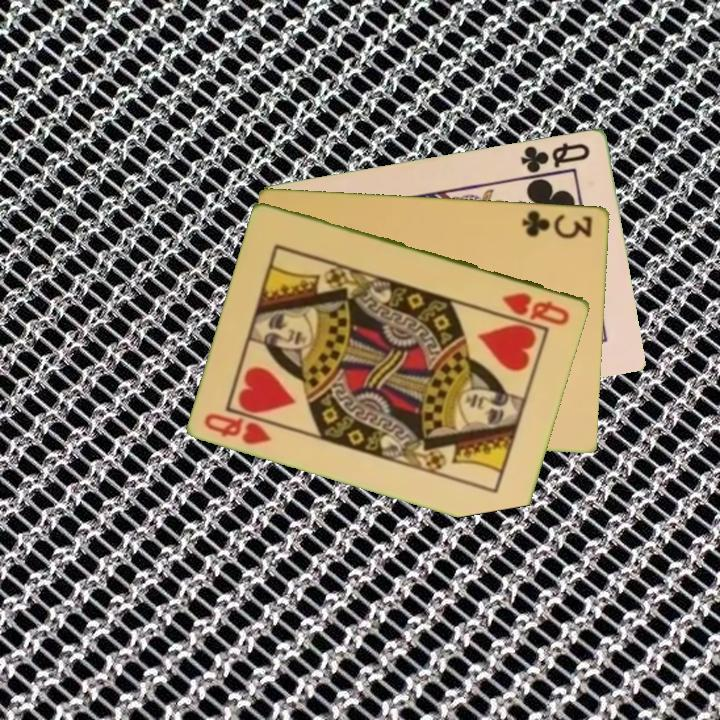3c: (519, 206, 596, 241)
Qc: (517, 139, 593, 179)
Qh: (499, 288, 573, 328), (201, 409, 275, 447)
